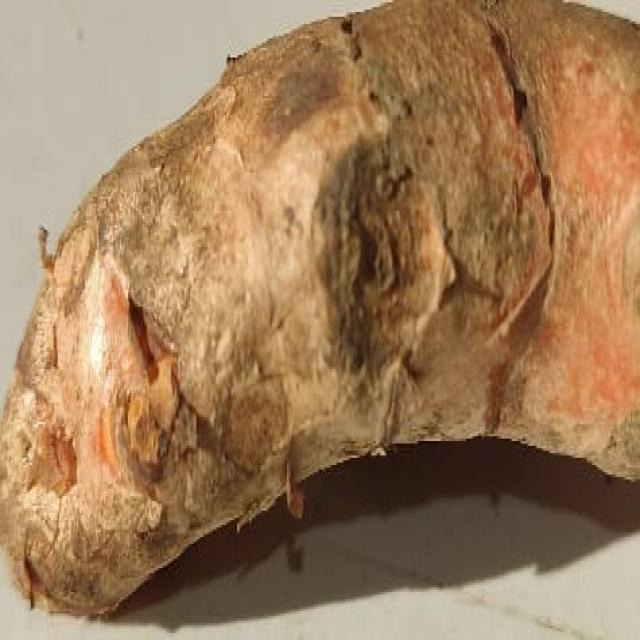ginger: (13, 7, 640, 549)
